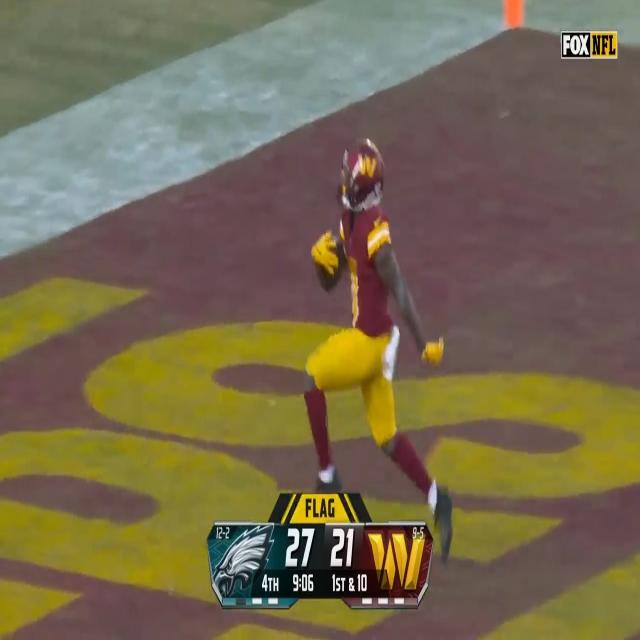Player: (306, 130, 401, 487)
